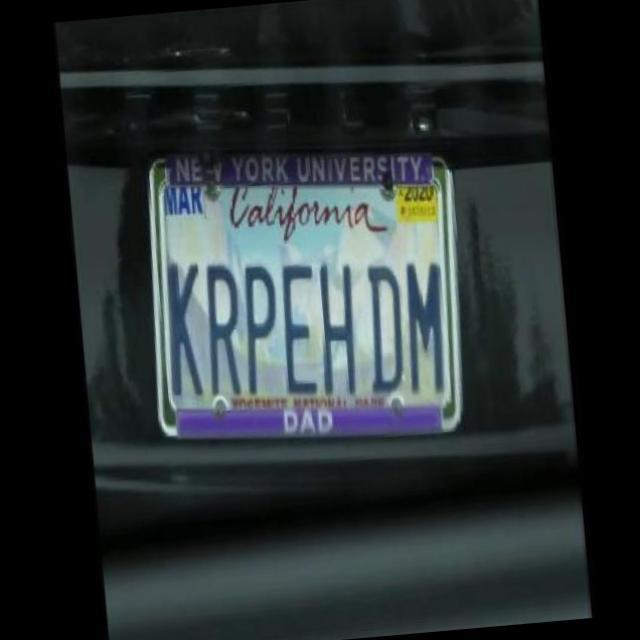License Plate: (140, 130, 468, 462)
